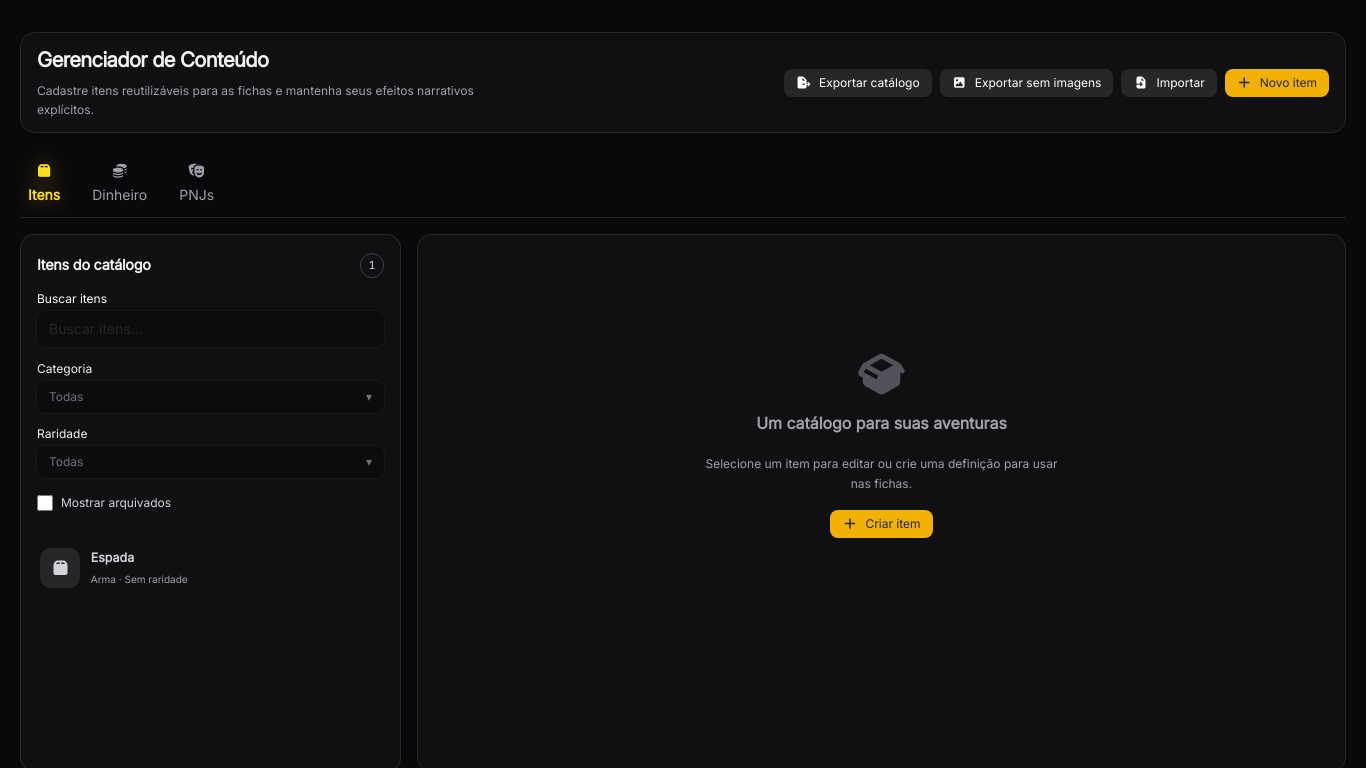
Scenario: Ironpaw content manager UI › opens an item with shared fields and a live preview
Click the button with class "catalog-row": (60, 568) left=29, top=536, right=392, bottom=599
(page scrolled)
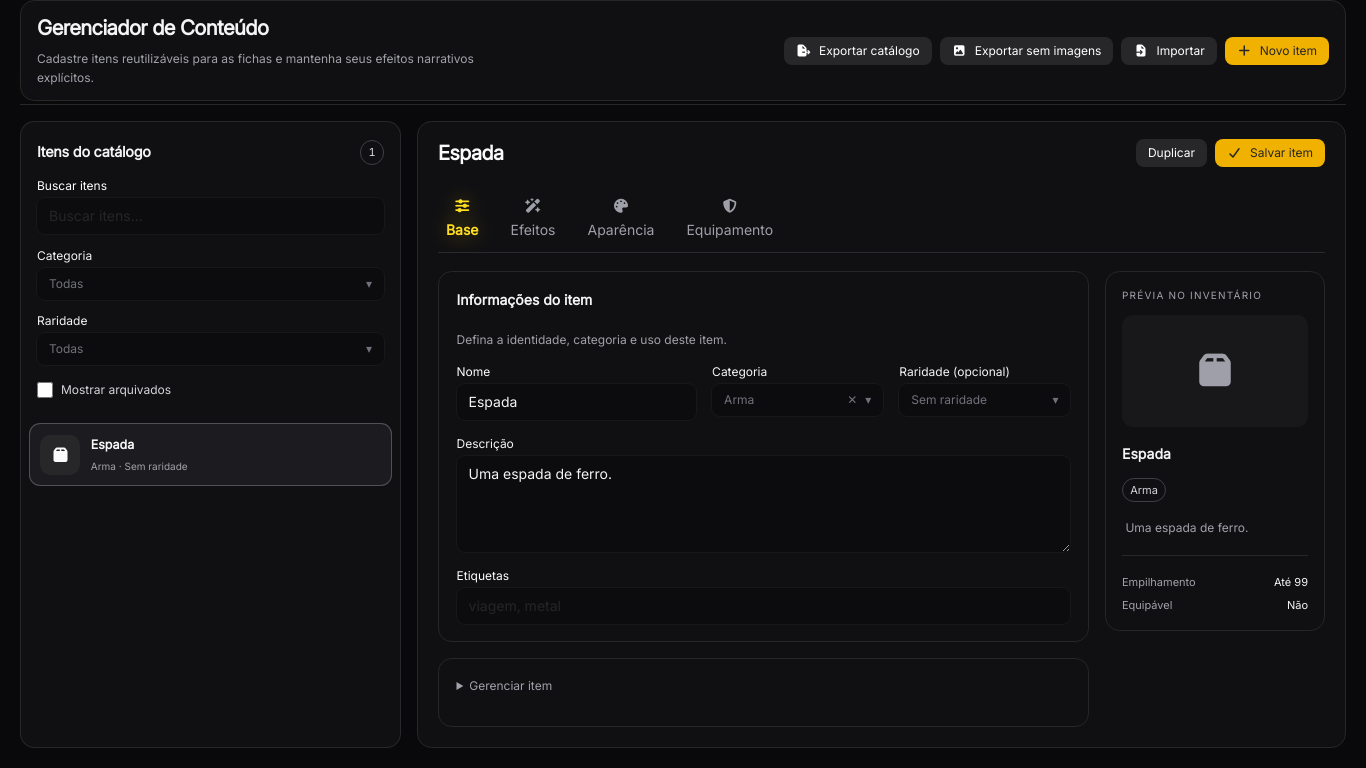
Expected: the element showing "Nome" is shown, left=456, top=364, right=696, bottom=420
Expected: the element named "Prévia do item" shows "Espada", left=1122, top=445, right=1171, bottom=462
